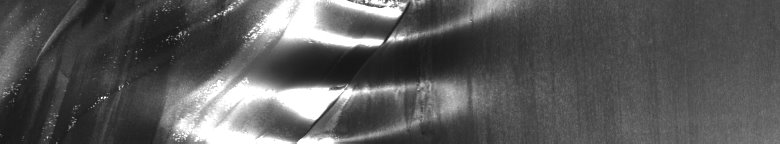ke: (4, 4, 484, 136)
